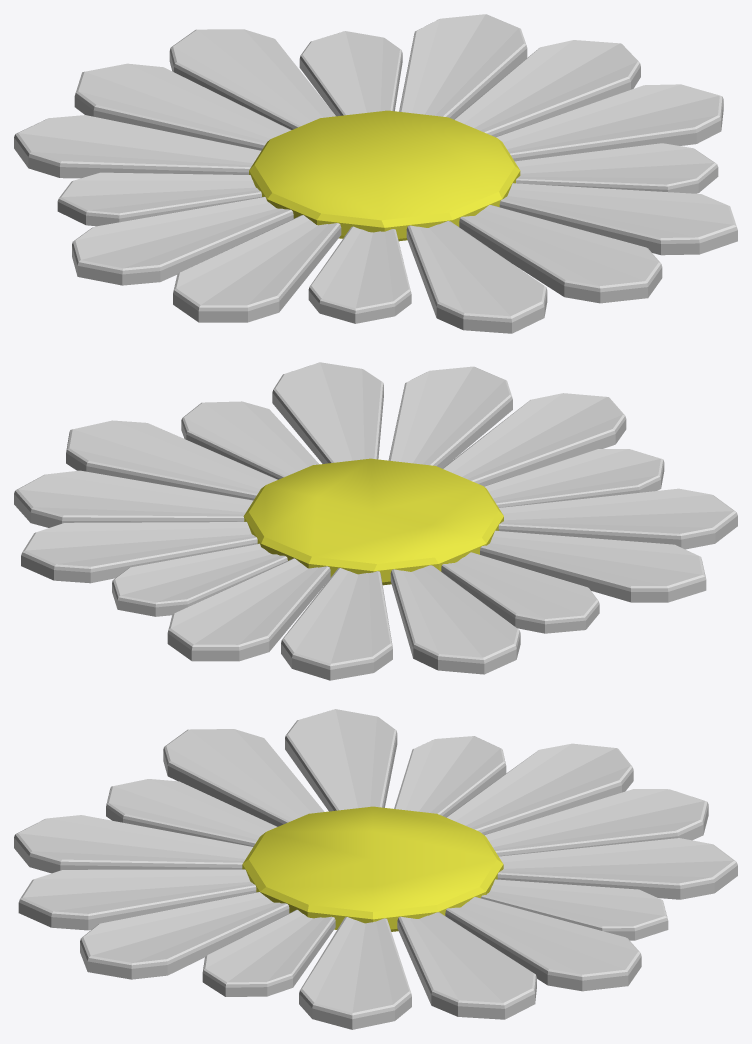
File: Flower_01.fbx
3 views of the same model, one above another, from view 1: azimuth 30°, elevation 25°; view 2: azimuth 150°, elevation 25°; view 3: azimuth 270°, elevation 25° (orthographic). The views are drawn at different scales.
Parts seen in each view (by area): view 1: Flower_01; view 2: Flower_01; view 3: Flower_01.
Boxes of the visible parts, x1=… form: Flower_01: x1=14, y1=14, x2=737, y2=333; Flower_01: x1=14, y1=362, x2=737, y2=680; Flower_01: x1=14, y1=709, x2=737, y2=1029.
Size of the model in its own units: 23.17 by 0.7725 by 23.06.
